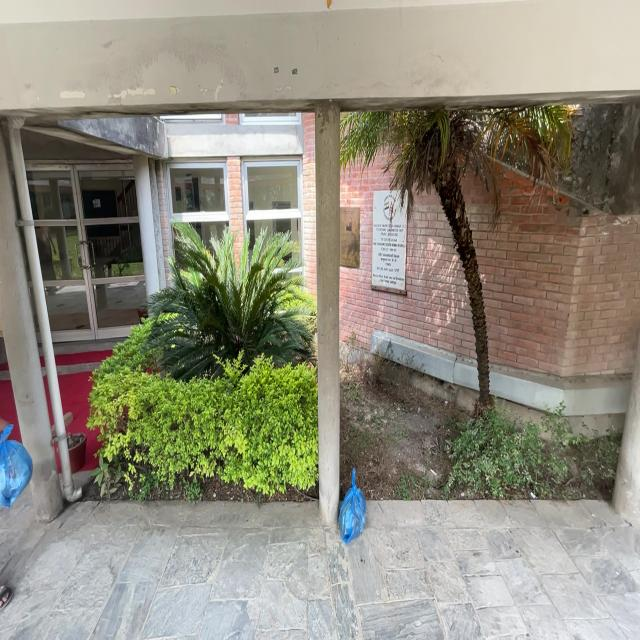carryload: (0, 408, 49, 517)
garbage: (328, 456, 380, 551)
